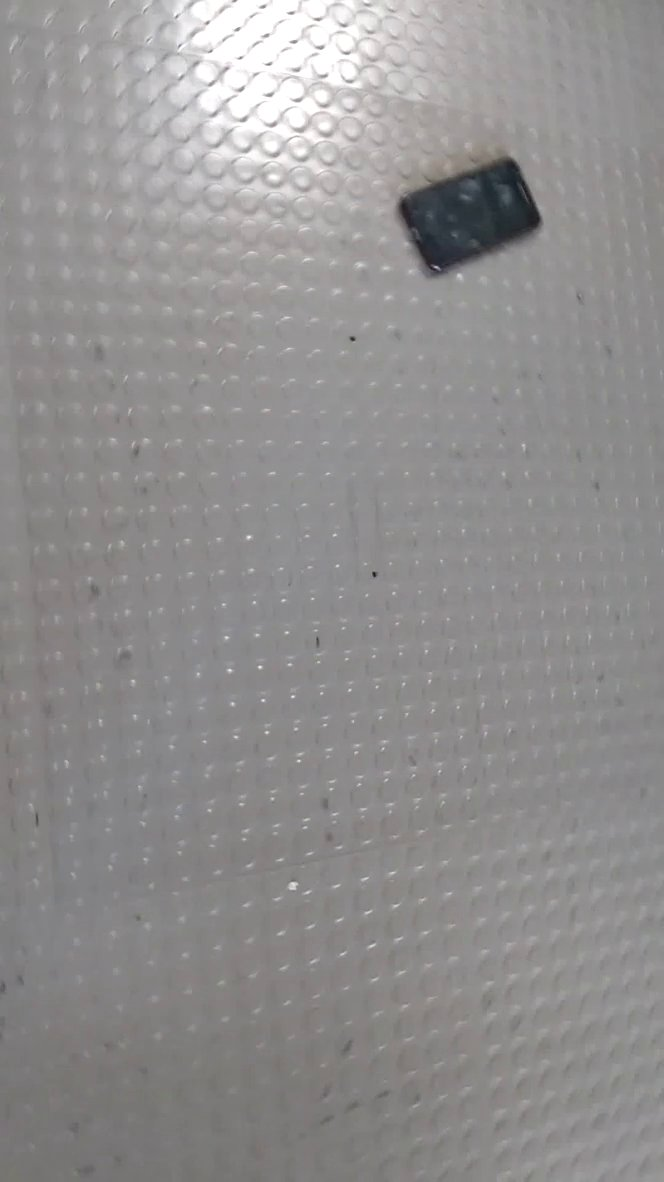phone: (391, 144, 560, 284)
